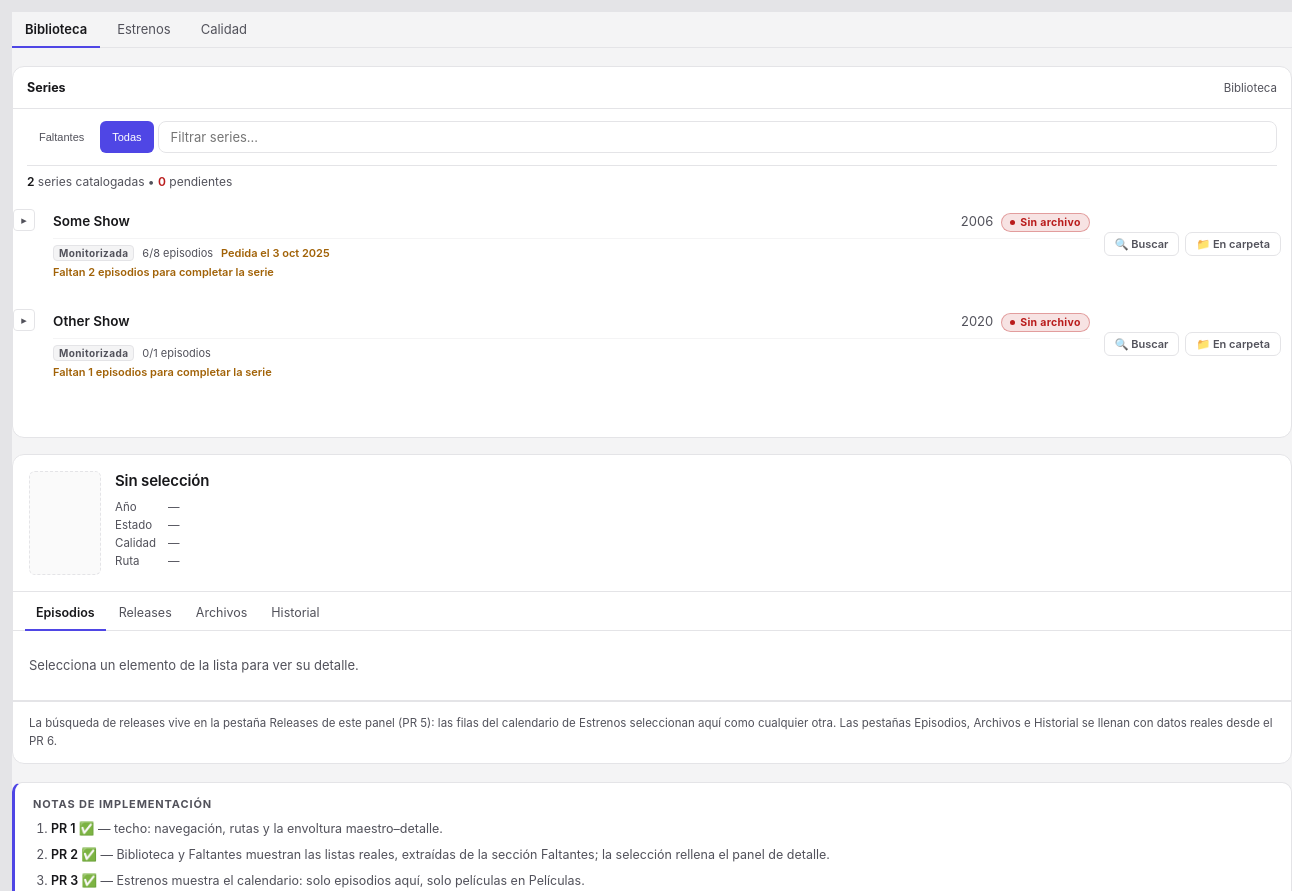
Scenario: Series · the Episodios tab › states only what the payload states: en biblioteca, falta, and dashes
Expected: the text "Some Show" is shown, [53,212,130,228]
Click the element with class "sec-row" that starts with "Some Show" at (667, 244), box [43,199,1291,289]
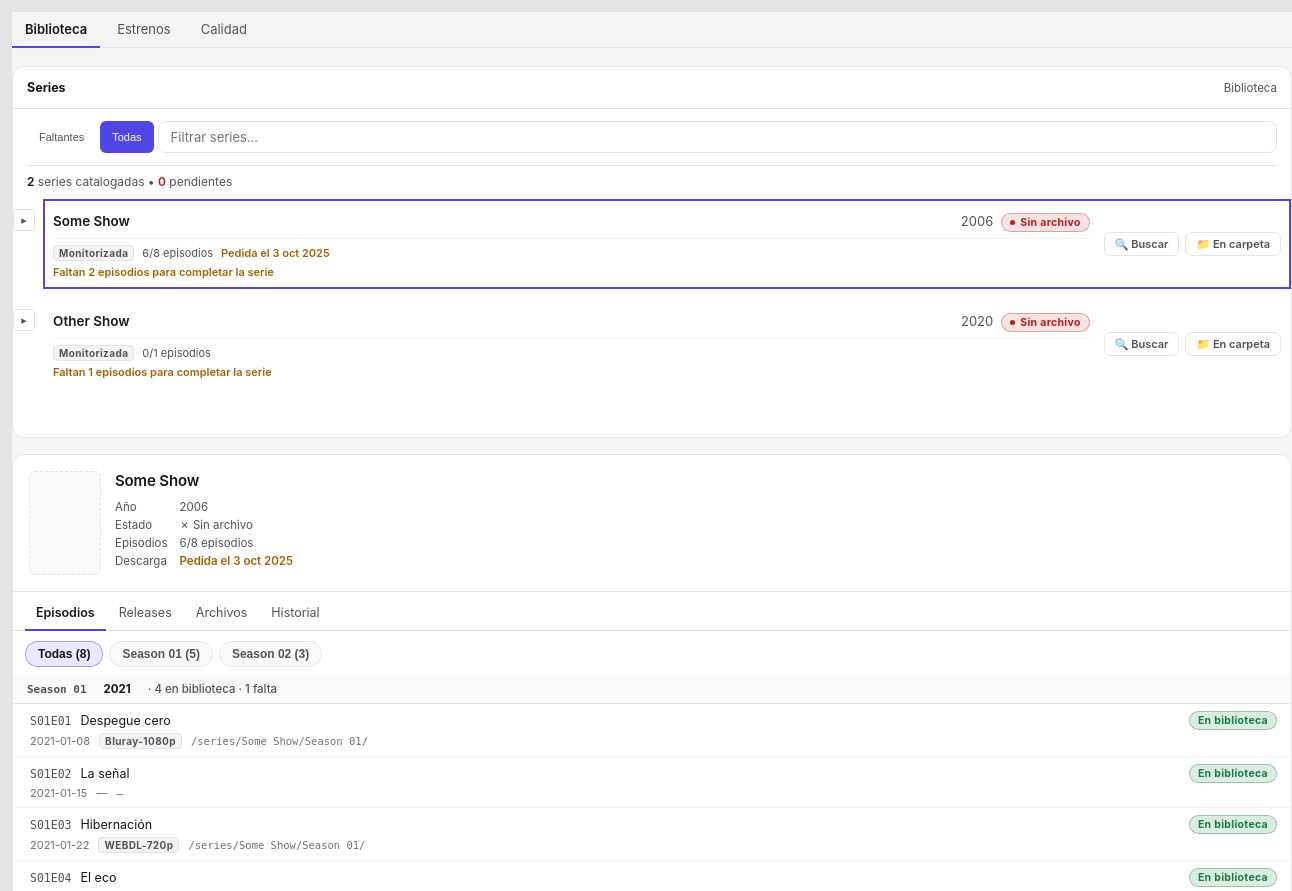
Expected: the text "S01E01" is shown, [30,714,72,728]
Expected: the element with class "sec-season-head" shows "Season 01", [27,683,87,696]
Expected: the element with class "sec-season-head" shows "2021", [104,682,131,696]
Note: An old payload without the file facts claims no state at all.
Click the element with class "sec-row" that starts with "Other Show" at (667, 344), box [43,299,1291,389]
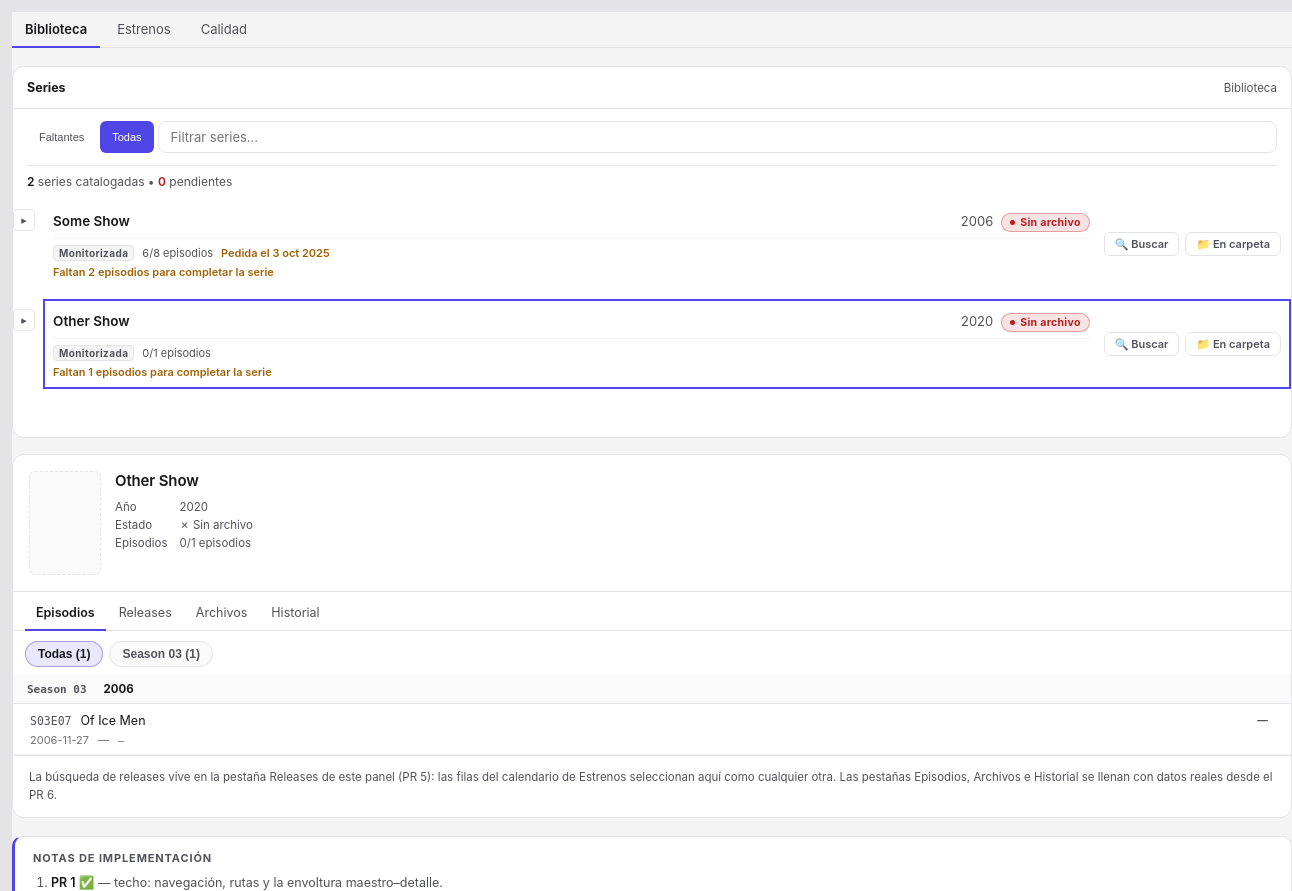
Expected: the text "—" in the row of "Of Ice Men" is shown, [1257,714,1268,727]
Expected: the text "Of Ice Men" is shown, [80,713,146,728]
